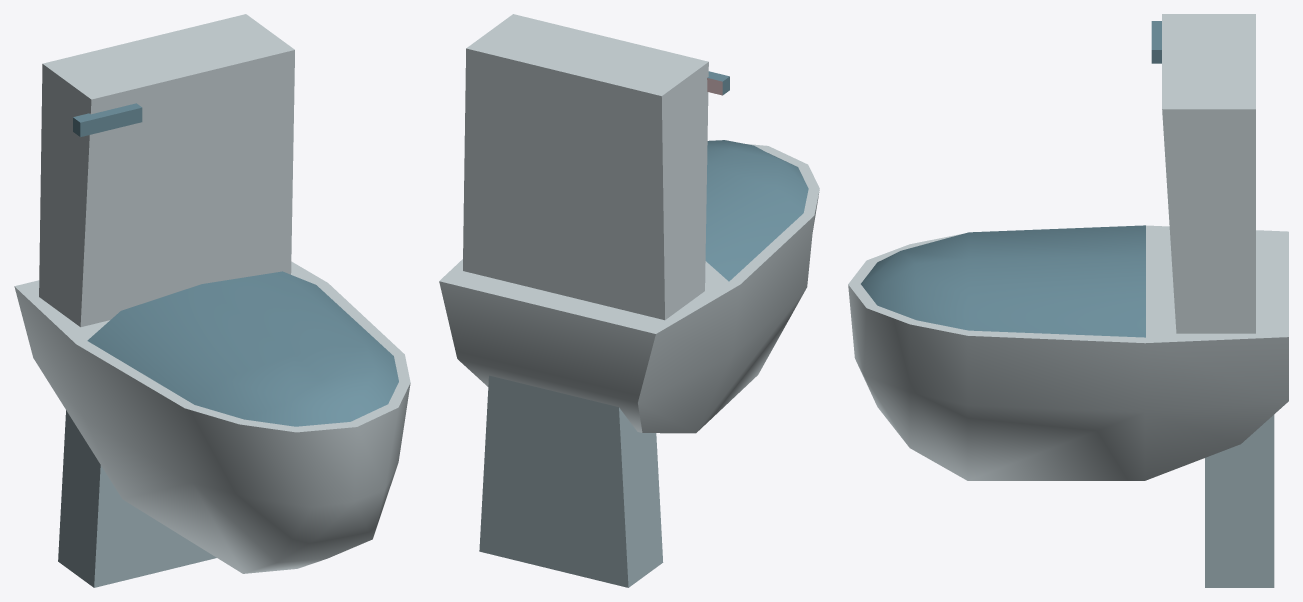
The model's file is bathroom_item_033.glb.
The picture shows the model from 3 angles, left to right: view 1: azimuth 30°, elevation 25°; view 2: azimuth 150°, elevation 25°; view 3: azimuth 270°, elevation 25°; orthographic projection. The views are drawn at different scales.
Parts seen in each view (by area): view 1: bathroom_item_033; view 2: bathroom_item_033; view 3: bathroom_item_033.
Part boxes in pixels (<box>): bathroom_item_033: <box>14,14,410,587</box>; bathroom_item_033: <box>439,14,819,587</box>; bathroom_item_033: <box>848,14,1288,587</box>.
Size of the model in its own units: 0.5407 by 1.05 by 0.8553.
1 material, 1 textured.
